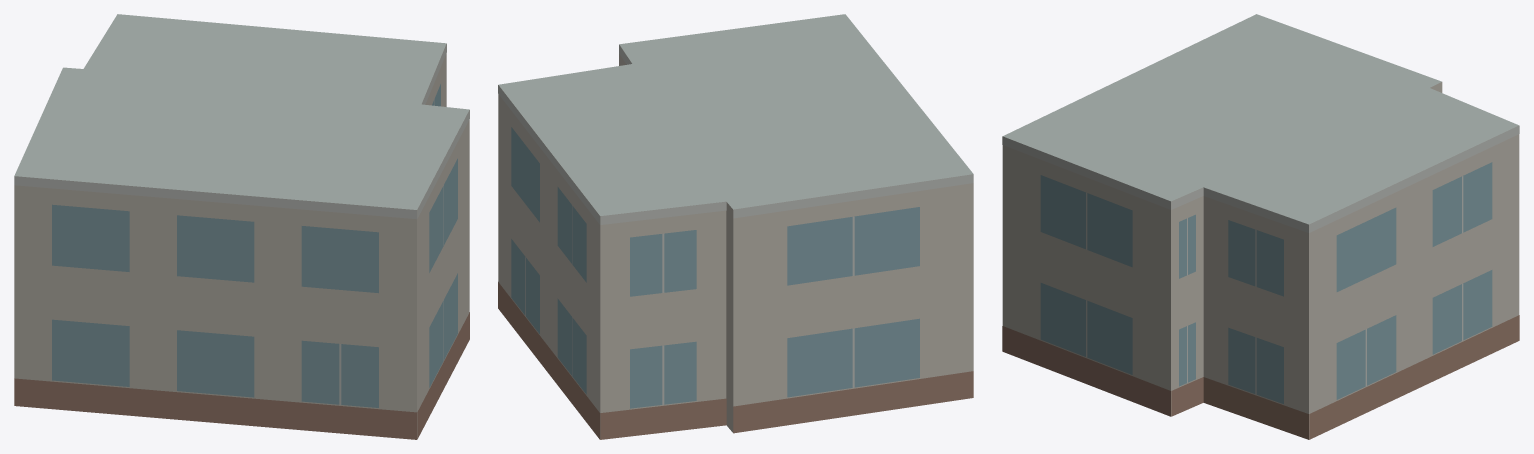
The model's file is survey-upis-32663935.glb.
3 views of the same model, side by side, from view 1: azimuth 30°, elevation 25°; view 2: azimuth 150°, elevation 25°; view 3: azimuth 270°, elevation 25° (orthographic). The views are drawn at different scales.
Visible parts, largest first — view 1: survey-upis-32663935.tmp; view 2: survey-upis-32663935.tmp; view 3: survey-upis-32663935.tmp.
Boxes of the visible parts, left/top/right/bottom form: survey-upis-32663935.tmp: left=14, top=14, right=469, bottom=439; survey-upis-32663935.tmp: left=498, top=14, right=973, bottom=439; survey-upis-32663935.tmp: left=1002, top=14, right=1519, bottom=439.
Size of the model in its own units: 12.8 by 6.1 by 13.28.
